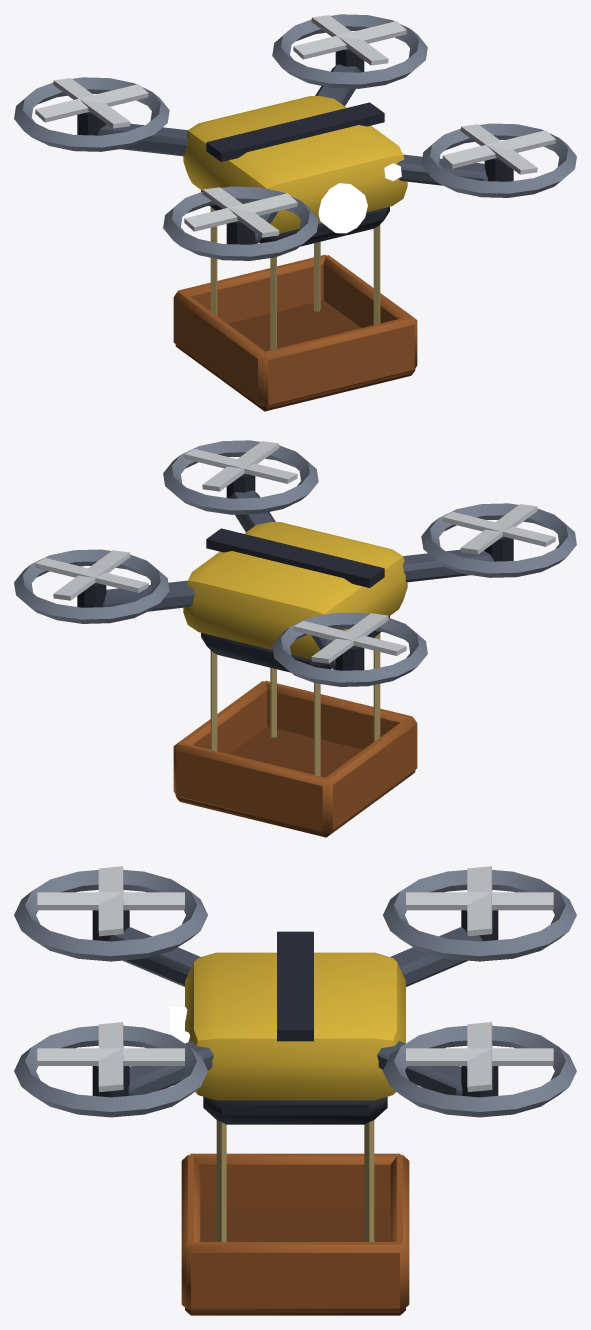
The model's file is comp_drohne.glb.
3 renders of one model, top to bottom at view 1: azimuth 30°, elevation 25°; view 2: azimuth 150°, elevation 25°; view 3: azimuth 270°, elevation 25°, orthographic. The views are drawn at different scales.
Visible parts, largest first — view 1: body, spin_rotor_1, spin_rotor_2, spin_rotor_3, spin_rotor_4, eye_glow; view 2: body, spin_rotor_2, spin_rotor_1, spin_rotor_4, spin_rotor_3; view 3: body, spin_rotor_1, spin_rotor_3, spin_rotor_2, spin_rotor_4, eye_glow.
Boxes of the visible parts, x1,y1,x2,y2 form: body: (14,14,576,411); spin_rotor_1: (184,187,297,237); spin_rotor_2: (442,124,555,174); spin_rotor_3: (35,78,148,128); spin_rotor_4: (293,15,406,65); eye_glow: (318,163,401,233); body: (14,440,576,837); spin_rotor_2: (184,441,297,491); spin_rotor_1: (442,504,555,554); spin_rotor_4: (35,550,148,600); spin_rotor_3: (293,613,406,663); body: (14,870,576,1315); spin_rotor_1: (37,866,184,936); spin_rotor_3: (406,866,553,936); spin_rotor_2: (37,1022,184,1092); spin_rotor_4: (406,1022,553,1092); eye_glow: (169,1007,189,1043).
Bounding box in the file's own units: 0.916 × 0.5321 × 0.916.
